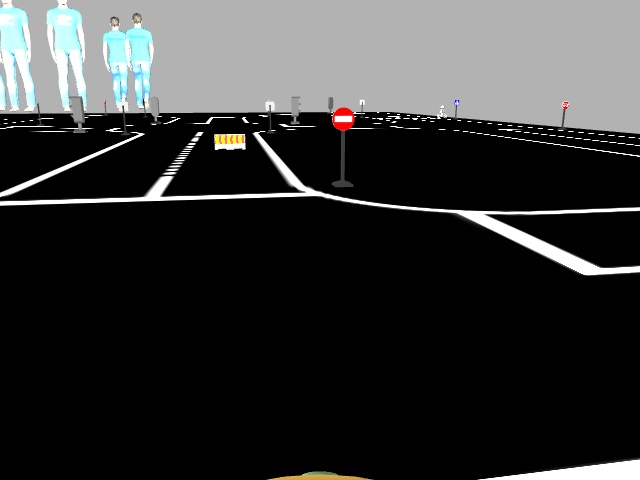ClosedRoadStand: (215, 133, 244, 148)
NoEntry: (330, 108, 354, 130)
